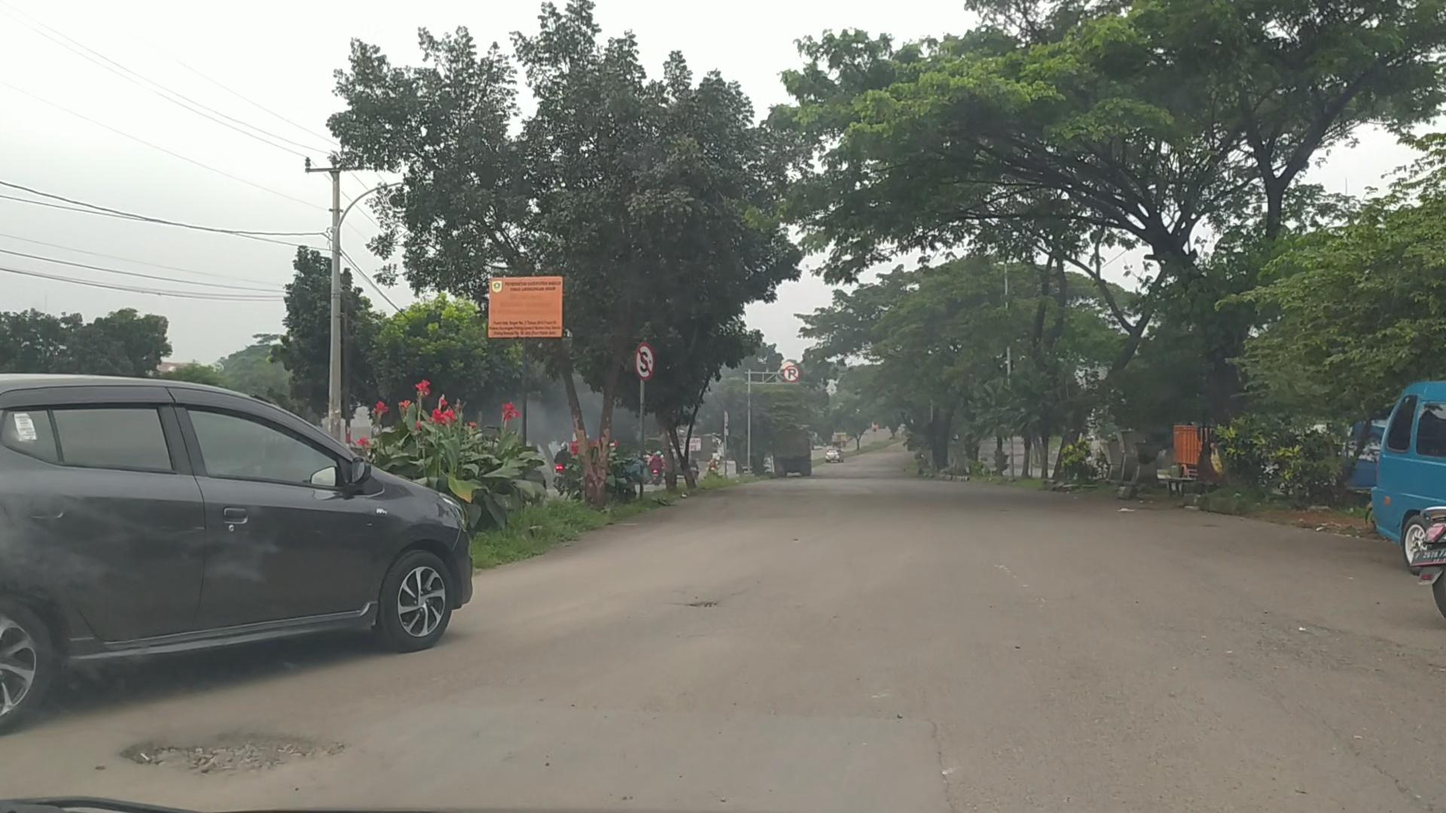pothole: (118, 728, 352, 779), (687, 600, 718, 609)
